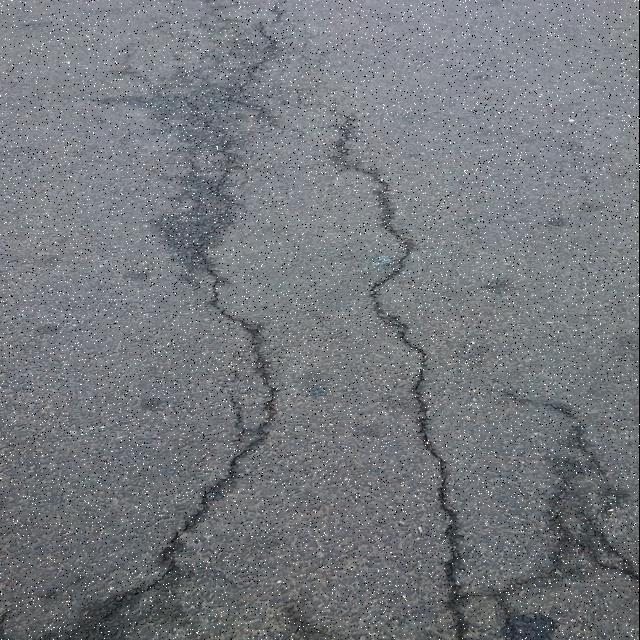Crack: (346, 164, 640, 640), (79, 162, 279, 640), (509, 392, 611, 477), (229, 23, 284, 119), (323, 114, 358, 162), (273, 4, 283, 21), (284, 0, 289, 3)
